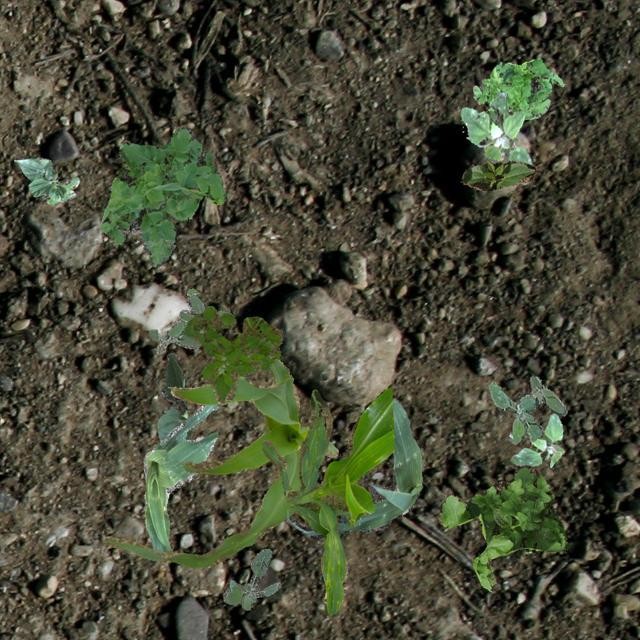crop: (104, 358, 336, 566), (260, 388, 392, 614), (284, 398, 422, 538), (142, 402, 218, 552), (12, 156, 78, 204), (156, 352, 192, 439), (460, 160, 534, 190)
weed: (98, 125, 224, 266), (436, 464, 568, 590), (184, 304, 282, 402), (472, 58, 564, 119), (458, 90, 530, 164), (488, 374, 566, 442), (148, 288, 230, 352), (222, 548, 280, 608), (510, 412, 562, 467)
